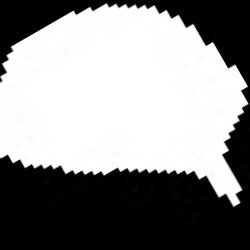spot: (1, 3, 249, 206)
